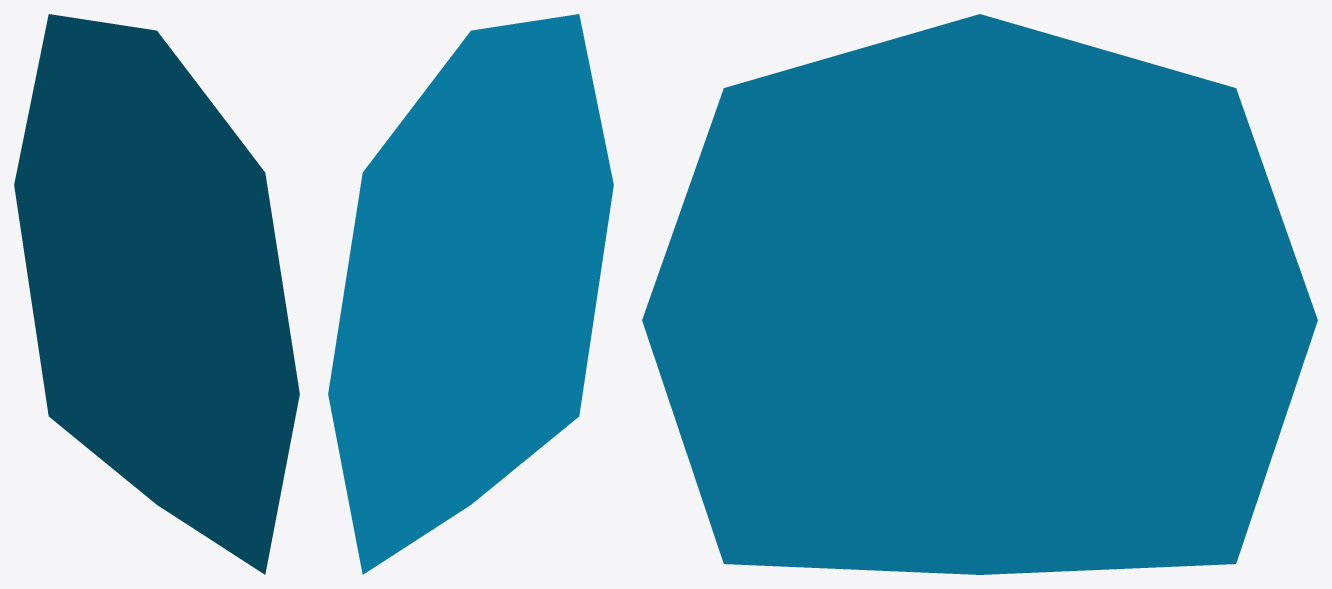
Rendered from Portal_Energy_LP.fbx.
3 renders of one model, left to right at view 1: azimuth 30°, elevation 25°; view 2: azimuth 150°, elevation 25°; view 3: azimuth 270°, elevation 25°, orthographic. The views are drawn at different scales.
Parts seen in each view (by area): view 1: Portal_Plate; view 2: Portal_Plate; view 3: Portal_Plate.
Part boxes in pixels (x1=…): Portal_Plate: x1=14, y1=14, x2=299, y2=574; Portal_Plate: x1=328, y1=14, x2=613, y2=574; Portal_Plate: x1=642, y1=14, x2=1317, y2=574.
Size of the model in its own units: 2.98e-10 by 4.22 by 4.61.
